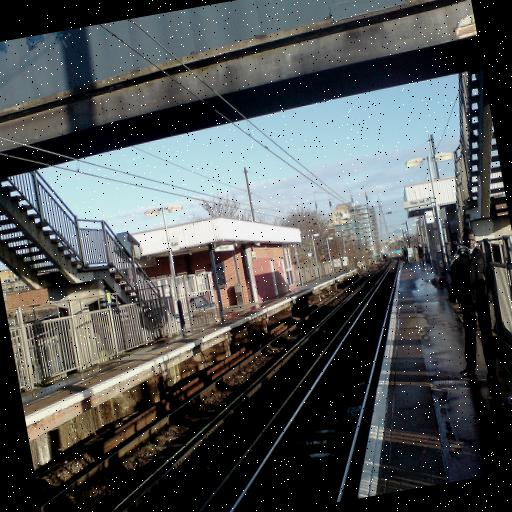platform_edge: (314, 272, 444, 499)
